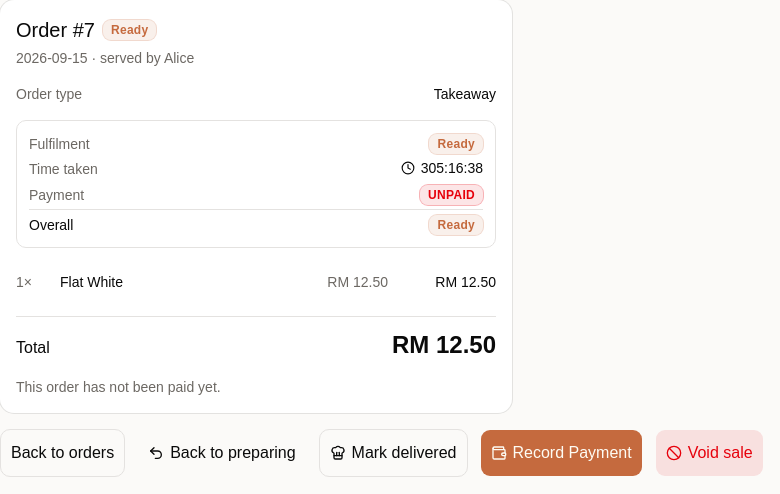
Scenario: in-flight protection › disables BOTH directions while a move is in flight, so they cannot race
Click the button with test id "reverse-fulfillment" at [222, 453], box left=137, top=429, right=307, bottom=477
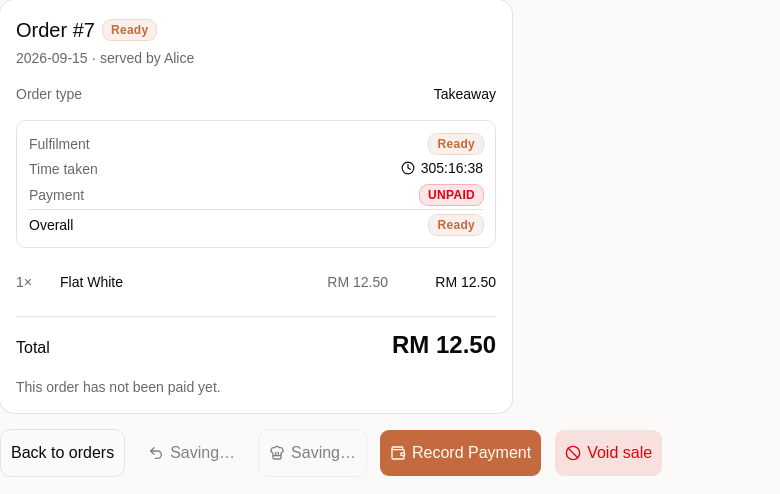
Now the button with test id "reverse-fulfillment" is disabled
Now the button with test id "advance-fulfillment" is disabled, box left=258, top=429, right=367, bottom=477
A second click while it is in flight writes nothing further.
Click the button with test id "reverse-fulfillment" at [192, 453], box left=137, top=429, right=246, bottom=477
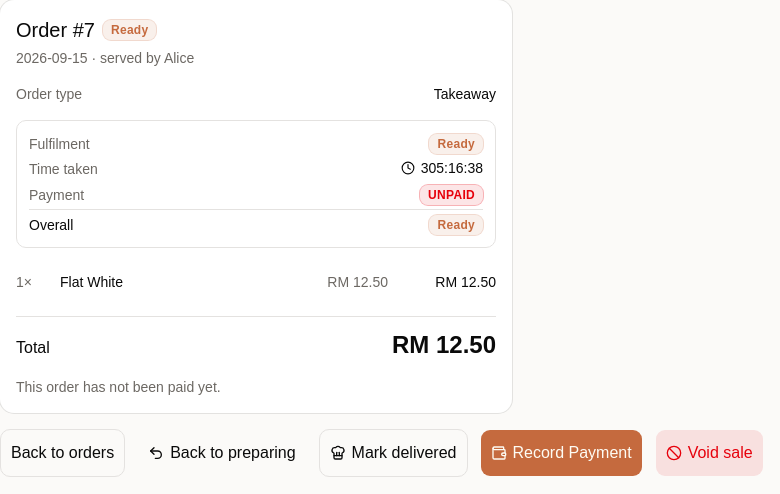
Now the button with test id "reverse-fulfillment" is enabled, box left=137, top=429, right=307, bottom=477
